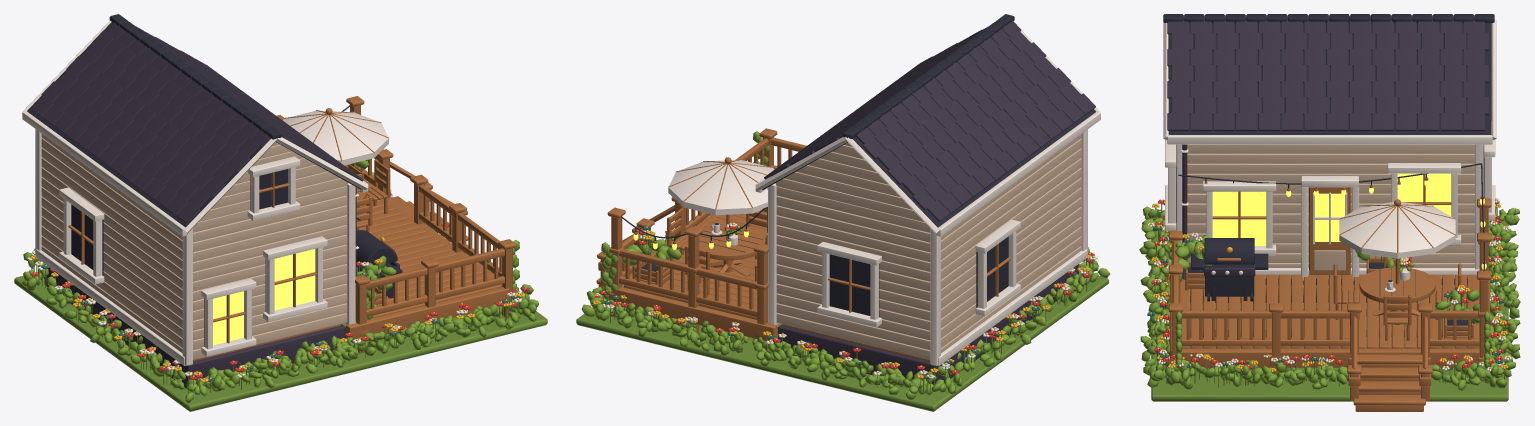
3 renders of one model, left to right at view 1: azimuth 30°, elevation 25°; view 2: azimuth 150°, elevation 25°; view 3: azimuth 270°, elevation 25°, orthographic.
Parts seen in each view (by area): view 1: body_pal_sidewalk, roof_pal_asphalt, body_pal_woodWarm, body_pal_picketWhite, body_pal_foliage, body_pal_grass, roof_pal_picketWhite, body_pal_asphalt, roof_pal_uiDark, window_emi_windowGlow, body_pal_uiDark, body_pal_schoolBusYellow (+2 smaller); view 2: body_pal_sidewalk, roof_pal_asphalt, body_pal_woodWarm, body_pal_picketWhite, body_pal_foliage, body_pal_grass, roof_pal_picketWhite, roof_pal_uiDark, body_pal_asphalt, body_pal_uiDark, body_pal_schoolBusYellow, body_pal_survivorRed; view 3: roof_pal_asphalt, body_pal_woodWarm, body_pal_sidewalk, body_pal_picketWhite, body_pal_foliage, body_pal_grass, roof_pal_uiDark, roof_pal_picketWhite, window_emi_windowGlow, body_pal_uiDark, body_pal_schoolBusYellow, body_pal_asphalt (+6 smaller).
Boxes of the visible parts, x1,y1,x2,y2 form: body_pal_sidewalk: [41, 134, 348, 359]; roof_pal_asphalt: [31, 21, 363, 224]; body_pal_woodWarm: [68, 96, 516, 353]; body_pal_picketWhite: [27, 110, 521, 377]; body_pal_foliage: [22, 160, 538, 402]; body_pal_grass: [14, 164, 547, 411]; roof_pal_picketWhite: [22, 21, 368, 236]; body_pal_asphalt: [44, 187, 399, 388]; roof_pal_uiDark: [27, 14, 361, 227]; window_emi_windowGlow: [213, 249, 315, 345]; body_pal_uiDark: [71, 105, 402, 346]; body_pal_schoolBusYellow: [30, 182, 526, 382]; body_pal_sidewalk: [775, 134, 1081, 359]; roof_pal_asphalt: [764, 21, 1095, 221]; body_pal_woodWarm: [596, 128, 1011, 347]; body_pal_picketWhite: [595, 129, 1097, 378]; body_pal_foliage: [581, 131, 1110, 399]; body_pal_grass: [576, 230, 1108, 411]; roof_pal_picketWhite: [755, 30, 1100, 236]; roof_pal_uiDark: [762, 14, 1096, 227]; body_pal_asphalt: [699, 226, 1078, 384]; body_pal_uiDark: [621, 207, 1008, 316]; body_pal_schoolBusYellow: [592, 223, 1094, 378]; body_pal_survivorRed: [594, 219, 1094, 374]; roof_pal_asphalt: [1167, 15, 1488, 130]; body_pal_woodWarm: [1169, 173, 1491, 411]; body_pal_sidewalk: [1187, 144, 1474, 267]; body_pal_picketWhite: [1148, 139, 1511, 371]; body_pal_foliage: [1139, 206, 1520, 390]; body_pal_grass: [1150, 204, 1508, 401]; roof_pal_uiDark: [1163, 14, 1494, 134]; roof_pal_picketWhite: [1163, 19, 1496, 144]; window_emi_windowGlow: [1212, 173, 1451, 245]; body_pal_uiDark: [1176, 145, 1484, 330]; body_pal_schoolBusYellow: [1149, 198, 1508, 372]; body_pal_asphalt: [1182, 144, 1467, 302].
Size of the model in its own units: 9.4 by 5.77 by 7.8.
